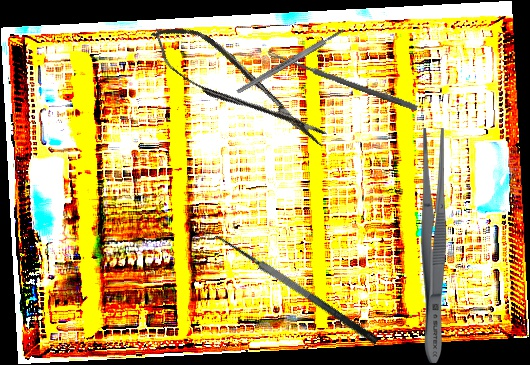Dressing Forceps: (419, 128, 448, 363)
Micro Scissor: (141, 9, 336, 165)
Scalpel Handle: (235, 26, 346, 96)
Spatula Surgical: (206, 226, 381, 359)
Surgical Spoon: (265, 49, 419, 112)
